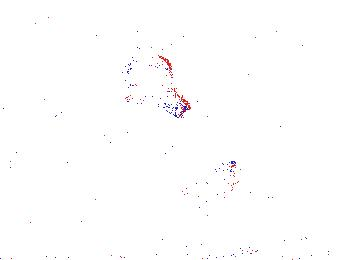flame jellyfish: (118, 51, 192, 120), (1, 168, 78, 222), (181, 160, 241, 225)
